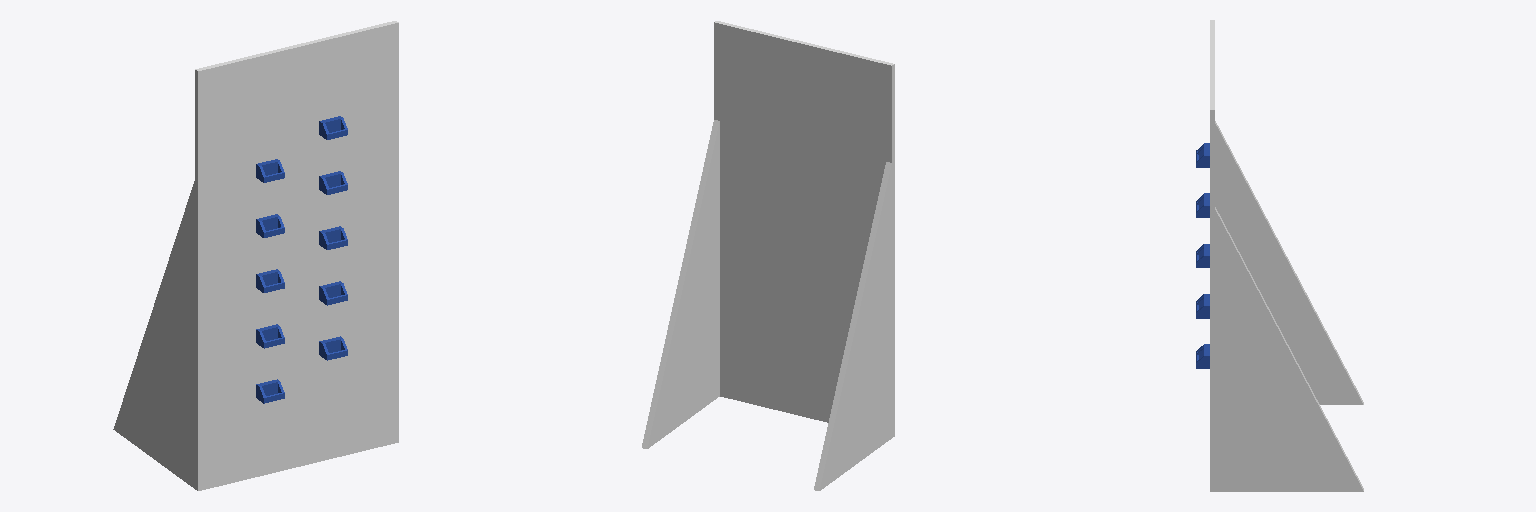
The robot description file, URDF, robot "climbing_wall":
<?xml version="1.0" ?>
<!-- Generated using onshape-to-robot -->
<!-- Onshape document_id: b766bcec136b50d9cf4fd3a7 -->
<robot name="climbing_wall">
  <!-- Link wall -->
  <link name="wall">
    <inertial>
      <origin xyz="0.381 0.472265 0.605557" rpy="0 0 0"/>
      <mass value="288.901"/>
      <inertia ixx="56.1647" ixy="2.94838e-15" ixz="-0.00718802" iyy="75.9579" iyz="7.05155" izz="28.5354"/>
    </inertial>
    <!-- Part jug_hold -->
    <visual>
      <origin xyz="0.501 0.386449 0.787" rpy="0 -0 0"/>
      <geometry>
        <mesh filename="package://climbbot3_gz/models/climbing_wall/assets/jug_hold.stl"/>
      </geometry>
      <material name="jug_hold_material">
        <color rgba="0.231373 0.380392 0.705882 1.0"/>
      </material>
    </visual>
    <collision>
      <origin xyz="0.501 0.386449 0.787" rpy="0 -0 0"/>
      <geometry>
        <mesh filename="package://climbbot3_gz/models/climbing_wall/assets/jug_hold.stl"/>
      </geometry>
    </collision>
    <!-- Part jug_hold_2 -->
    <visual>
      <origin xyz="0.501 0.386449 1.187" rpy="0 -0 0"/>
      <geometry>
        <mesh filename="package://climbbot3_gz/models/climbing_wall/assets/jug_hold.stl"/>
      </geometry>
      <material name="jug_hold_2_material">
        <color rgba="0.231373 0.380392 0.705882 1.0"/>
      </material>
    </visual>
    <collision>
      <origin xyz="0.501 0.386449 1.187" rpy="0 -0 0"/>
      <geometry>
        <mesh filename="package://climbbot3_gz/models/climbing_wall/assets/jug_hold.stl"/>
      </geometry>
    </collision>
    <!-- Part wall -->
    <visual>
      <origin xyz="0 0.405499 0" rpy="0 -0 0"/>
      <geometry>
        <mesh filename="package://climbbot3_gz/models/climbing_wall/assets/wall.stl"/>
      </geometry>
      <material name="wall_material">
        <color rgba="0.917647 0.917647 0.917647 1.0"/>
      </material>
    </visual>
    <collision>
      <origin xyz="0 0.405499 0" rpy="0 -0 0"/>
      <geometry>
        <mesh filename="package://climbbot3_gz/models/climbing_wall/assets/wall.stl"/>
      </geometry>
    </collision>
    <!-- Part jug_hold_3 -->
    <visual>
      <origin xyz="0.261 0.386449 0.687" rpy="0 -0 0"/>
      <geometry>
        <mesh filename="package://climbbot3_gz/models/climbing_wall/assets/jug_hold.stl"/>
      </geometry>
      <material name="jug_hold_3_material">
        <color rgba="0.231373 0.380392 0.705882 1.0"/>
      </material>
    </visual>
    <collision>
      <origin xyz="0.261 0.386449 0.687" rpy="0 -0 0"/>
      <geometry>
        <mesh filename="package://climbbot3_gz/models/climbing_wall/assets/jug_hold.stl"/>
      </geometry>
    </collision>
    <!-- Part jug_hold_4 -->
    <visual>
      <origin xyz="0.261 0.386449 0.287" rpy="0 -0 0"/>
      <geometry>
        <mesh filename="package://climbbot3_gz/models/climbing_wall/assets/jug_hold.stl"/>
      </geometry>
      <material name="jug_hold_4_material">
        <color rgba="0.231373 0.380392 0.705882 1.0"/>
      </material>
    </visual>
    <collision>
      <origin xyz="0.261 0.386449 0.287" rpy="0 -0 0"/>
      <geometry>
        <mesh filename="package://climbbot3_gz/models/climbing_wall/assets/jug_hold.stl"/>
      </geometry>
    </collision>
    <!-- Part jug_hold_5 -->
    <visual>
      <origin xyz="0.501 0.386449 0.587" rpy="0 -0 0"/>
      <geometry>
        <mesh filename="package://climbbot3_gz/models/climbing_wall/assets/jug_hold.stl"/>
      </geometry>
      <material name="jug_hold_5_material">
        <color rgba="0.231373 0.380392 0.705882 1.0"/>
      </material>
    </visual>
    <collision>
      <origin xyz="0.501 0.386449 0.587" rpy="0 -0 0"/>
      <geometry>
        <mesh filename="package://climbbot3_gz/models/climbing_wall/assets/jug_hold.stl"/>
      </geometry>
    </collision>
    <!-- Part jug_hold_6 -->
    <visual>
      <origin xyz="0.501 0.386449 0.387" rpy="0 -0 0"/>
      <geometry>
        <mesh filename="package://climbbot3_gz/models/climbing_wall/assets/jug_hold.stl"/>
      </geometry>
      <material name="jug_hold_6_material">
        <color rgba="0.231373 0.380392 0.705882 1.0"/>
      </material>
    </visual>
    <collision>
      <origin xyz="0.501 0.386449 0.387" rpy="0 -0 0"/>
      <geometry>
        <mesh filename="package://climbbot3_gz/models/climbing_wall/assets/jug_hold.stl"/>
      </geometry>
    </collision>
    <!-- Part jug_hold_7 -->
    <visual>
      <origin xyz="0.261 0.386449 0.487" rpy="0 -0 0"/>
      <geometry>
        <mesh filename="package://climbbot3_gz/models/climbing_wall/assets/jug_hold.stl"/>
      </geometry>
      <material name="jug_hold_7_material">
        <color rgba="0.231373 0.380392 0.705882 1.0"/>
      </material>
    </visual>
    <collision>
      <origin xyz="0.261 0.386449 0.487" rpy="0 -0 0"/>
      <geometry>
        <mesh filename="package://climbbot3_gz/models/climbing_wall/assets/jug_hold.stl"/>
      </geometry>
    </collision>
    <!-- Part jug_hold_8 -->
    <visual>
      <origin xyz="0.261 0.386449 1.087" rpy="0 -0 0"/>
      <geometry>
        <mesh filename="package://climbbot3_gz/models/climbing_wall/assets/jug_hold.stl"/>
      </geometry>
      <material name="jug_hold_8_material">
        <color rgba="0.231373 0.380392 0.705882 1.0"/>
      </material>
    </visual>
    <collision>
      <origin xyz="0.261 0.386449 1.087" rpy="0 -0 0"/>
      <geometry>
        <mesh filename="package://climbbot3_gz/models/climbing_wall/assets/jug_hold.stl"/>
      </geometry>
    </collision>
    <!-- Part jug_hold_9 -->
    <visual>
      <origin xyz="0.501 0.386449 0.987" rpy="0 -0 0"/>
      <geometry>
        <mesh filename="package://climbbot3_gz/models/climbing_wall/assets/jug_hold.stl"/>
      </geometry>
      <material name="jug_hold_9_material">
        <color rgba="0.231373 0.380392 0.705882 1.0"/>
      </material>
    </visual>
    <collision>
      <origin xyz="0.501 0.386449 0.987" rpy="0 -0 0"/>
      <geometry>
        <mesh filename="package://climbbot3_gz/models/climbing_wall/assets/jug_hold.stl"/>
      </geometry>
    </collision>
    <!-- Part jug_hold_10 -->
    <visual>
      <origin xyz="0.261 0.386449 0.887" rpy="0 -0 0"/>
      <geometry>
        <mesh filename="package://climbbot3_gz/models/climbing_wall/assets/jug_hold.stl"/>
      </geometry>
      <material name="jug_hold_10_material">
        <color rgba="0.231373 0.380392 0.705882 1.0"/>
      </material>
    </visual>
    <collision>
      <origin xyz="0.261 0.386449 0.887" rpy="0 -0 0"/>
      <geometry>
        <mesh filename="package://climbbot3_gz/models/climbing_wall/assets/jug_hold.stl"/>
      </geometry>
    </collision>
  </link>
  <gazebo reference="wall">
    <static>true</static>
  </gazebo>

</robot>

--- What the picture shows (computed from the rendered views, not written in the file) ---
3 views of the same robot in one strip: view 1: azimuth 30°, elevation 25°; view 2: azimuth 150°, elevation 25°; view 3: azimuth 270°, elevation 25° (orthographic).
Robot: climbing_wall — 1 links, 0 joints (none); root link wall; default pose: all joints at 0.
Visible links, largest first — view 1: wall; view 2: wall; view 3: wall.
Link boxes in pixels (bbox=[...]): wall: bbox=[113, 21, 398, 490]; wall: bbox=[642, 21, 894, 490]; wall: bbox=[1196, 20, 1363, 491].
Size in the robot's own frame: 0.762 by 0.6069 by 1.52 metres.
Meshes: 2 distinct files referenced, 11 mesh visuals loaded (2 binary STL).